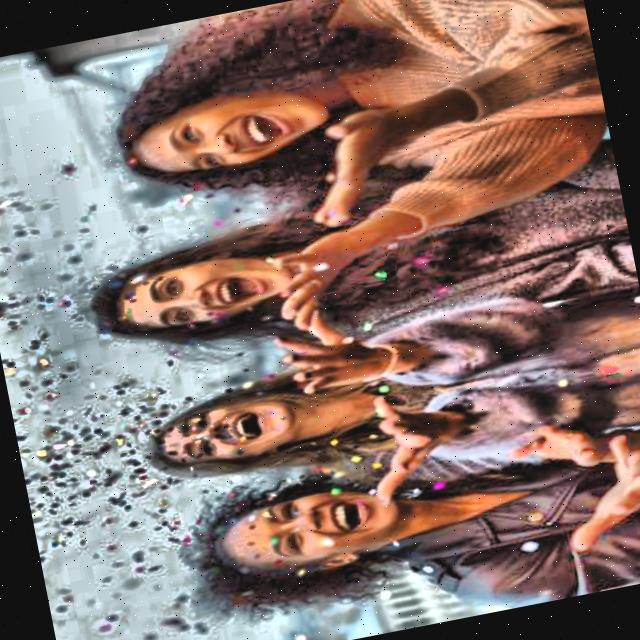happy: (91, 24, 382, 221), (179, 456, 426, 626), (75, 222, 340, 372), (133, 361, 376, 498)
